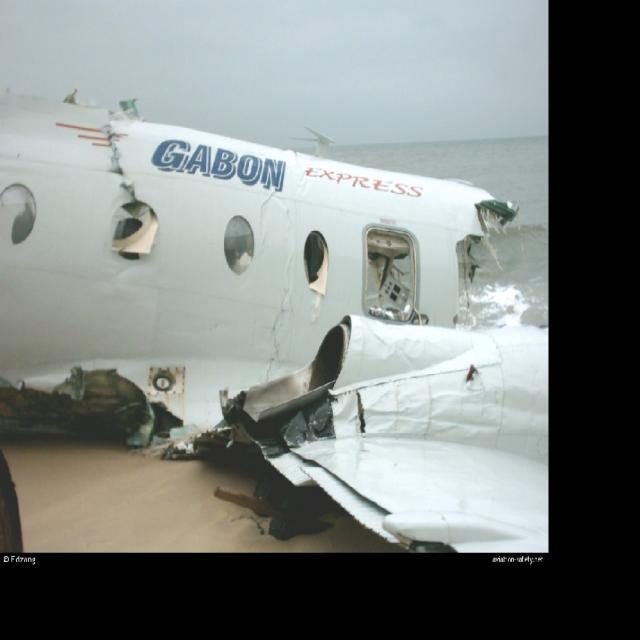crack: (98, 116, 139, 199), (266, 284, 298, 386), (355, 390, 369, 439)
